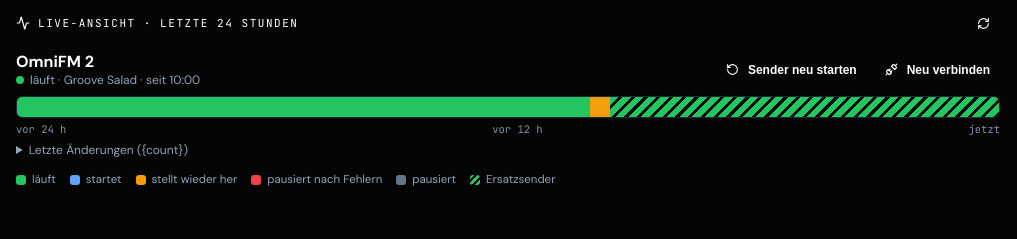
Test: live view › sends a button to the bot and says what it does
Click the button with test id "live-restart-bot-2" at (791,70), box [716,54,867,86]
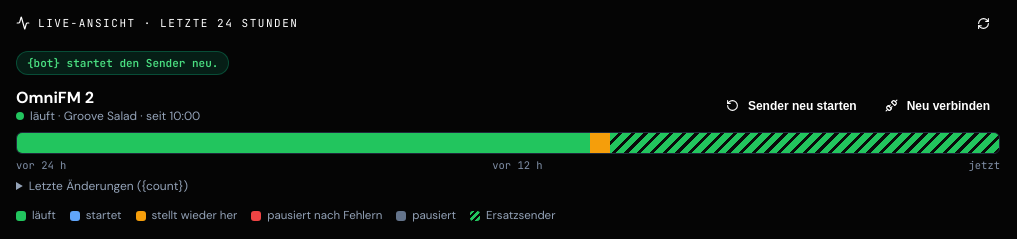
Expected: the text with test id "live-view-notice" shows "startet den Sender neu", [27,56,218,70]
